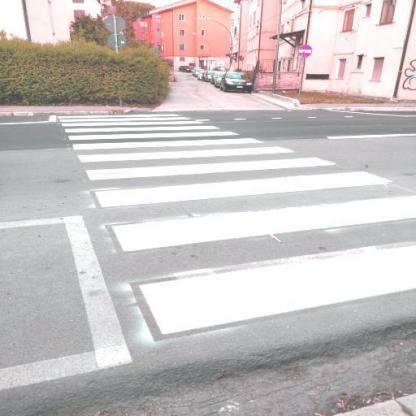crosswalk: (66, 155, 397, 212)
